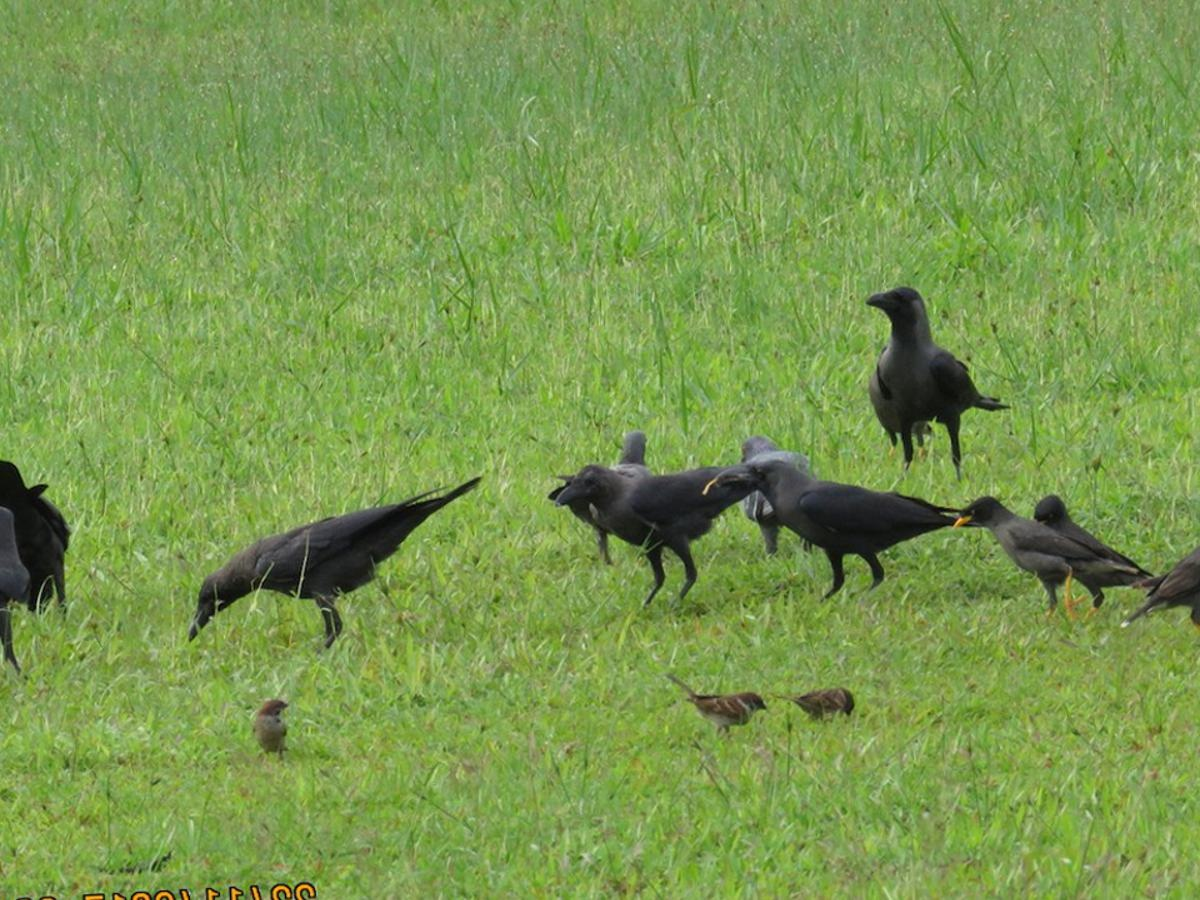crow: (186, 479, 487, 658), (709, 448, 968, 591), (845, 276, 1014, 469), (559, 457, 746, 610), (953, 491, 1096, 625)
